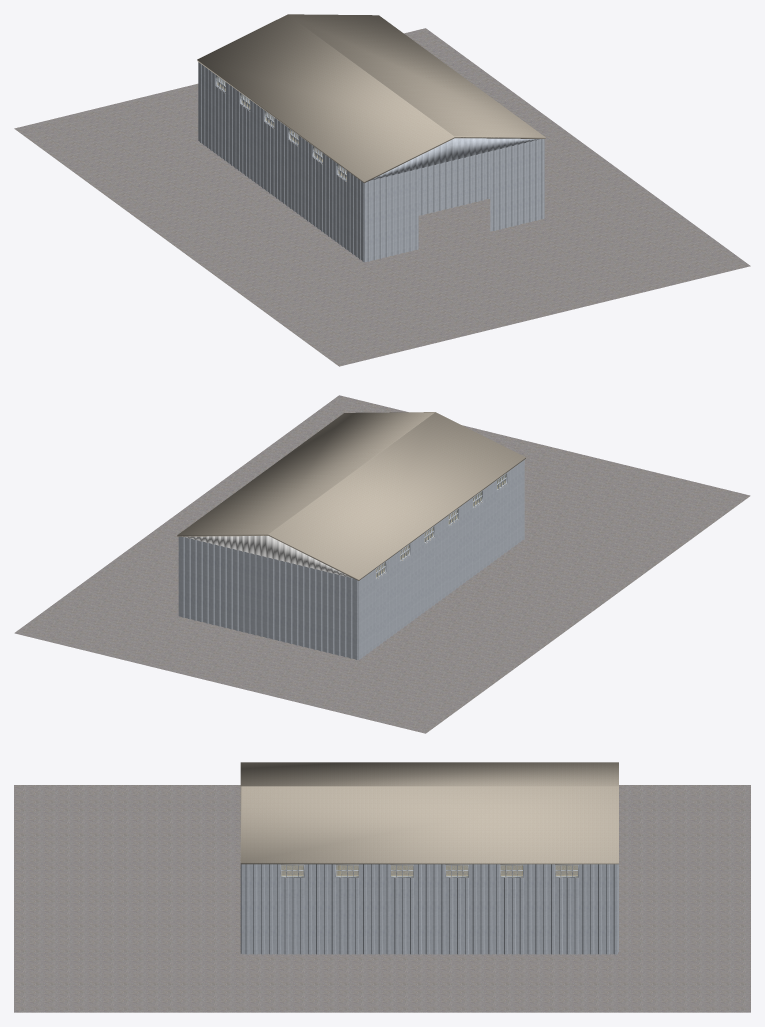
3 renders of one model, top to bottom at view 1: azimuth 30°, elevation 25°; view 2: azimuth 150°, elevation 25°; view 3: azimuth 270°, elevation 25°, orthographic. The views are drawn at different scales.
Visible parts, largest first — view 1: Material3.001, Material2.004, Material2.002, Material2.013; view 2: Material3.001, Material2.004, Material2.002, Material3.006, Material2.013; view 3: Material3.001, Material2.004, Material2.002, Material2.012, Material2.013.
Part boxes in pixels (x1,y1,x2,y2): Material3.001: (14, 28, 750, 366); Material2.004: (197, 14, 545, 183); Material2.002: (198, 62, 544, 262); Material2.013: (215, 75, 346, 181); Material3.001: (14, 395, 750, 733); Material2.004: (177, 412, 525, 580); Material2.002: (178, 460, 524, 659); Material3.006: (182, 536, 351, 577); Material2.013: (376, 473, 507, 579); Material3.001: (14, 785, 750, 1012); Material2.004: (240, 762, 618, 864); Material2.002: (240, 864, 618, 954); Material2.012: (281, 865, 577, 876); Material2.013: (280, 864, 578, 877).
Bounding box in the file's own units: 1241 × 300 × 1697.
Materials: 8 (5 with a texture image).
